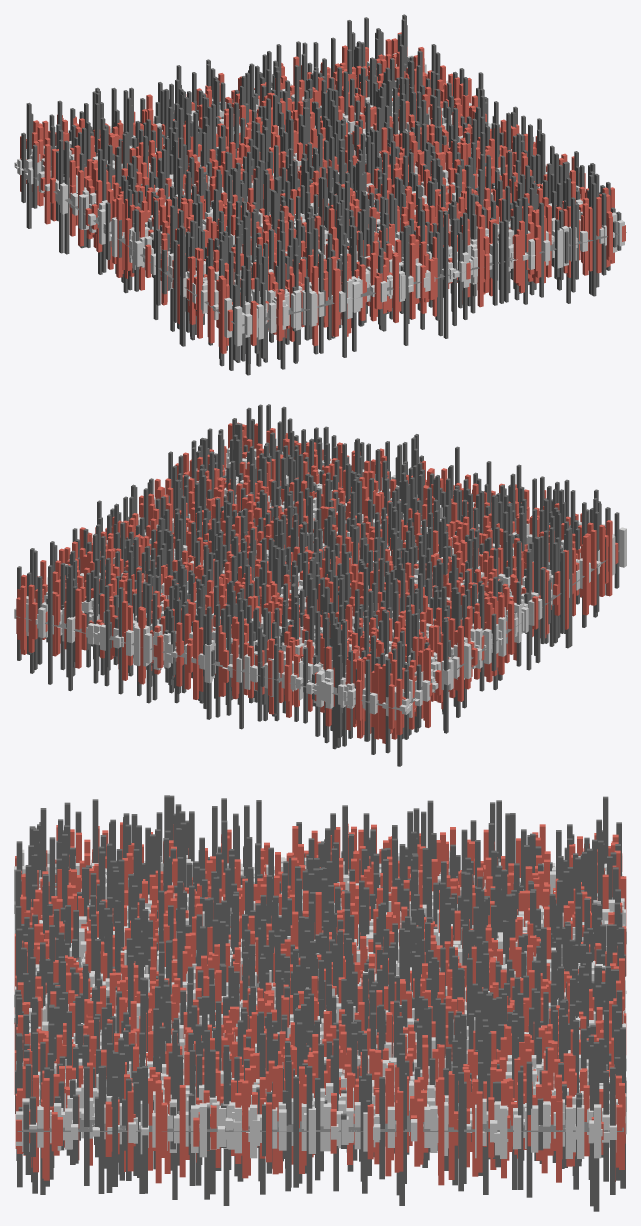
File: city.fbx
3 views of the same model, one above another, from view 1: azimuth 30°, elevation 25°; view 2: azimuth 150°, elevation 25°; view 3: azimuth 270°, elevation 25° (orthographic). The views are drawn at different scales.
Visible parts, largest first — view 1: Plane.001; view 2: Plane.001; view 3: Plane.001.
Boxes of the visible parts, <box> form: Plane.001: <box>14,14,626,375</box>; Plane.001: <box>14,404,626,766</box>; Plane.001: <box>14,795,626,1211</box>.
Size of the model in its own units: 81 by 24.45 by 80.89.
